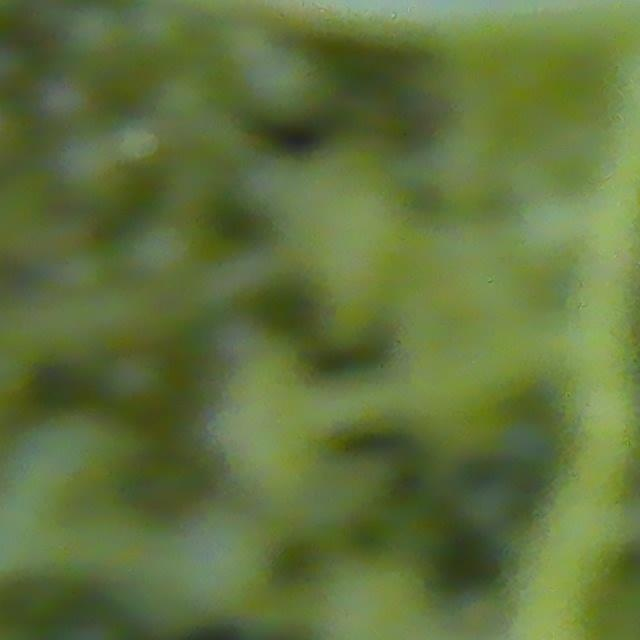SeaGrape: (236, 39, 336, 128), (53, 0, 131, 73), (103, 347, 174, 416), (33, 67, 98, 130), (127, 1, 192, 64)
